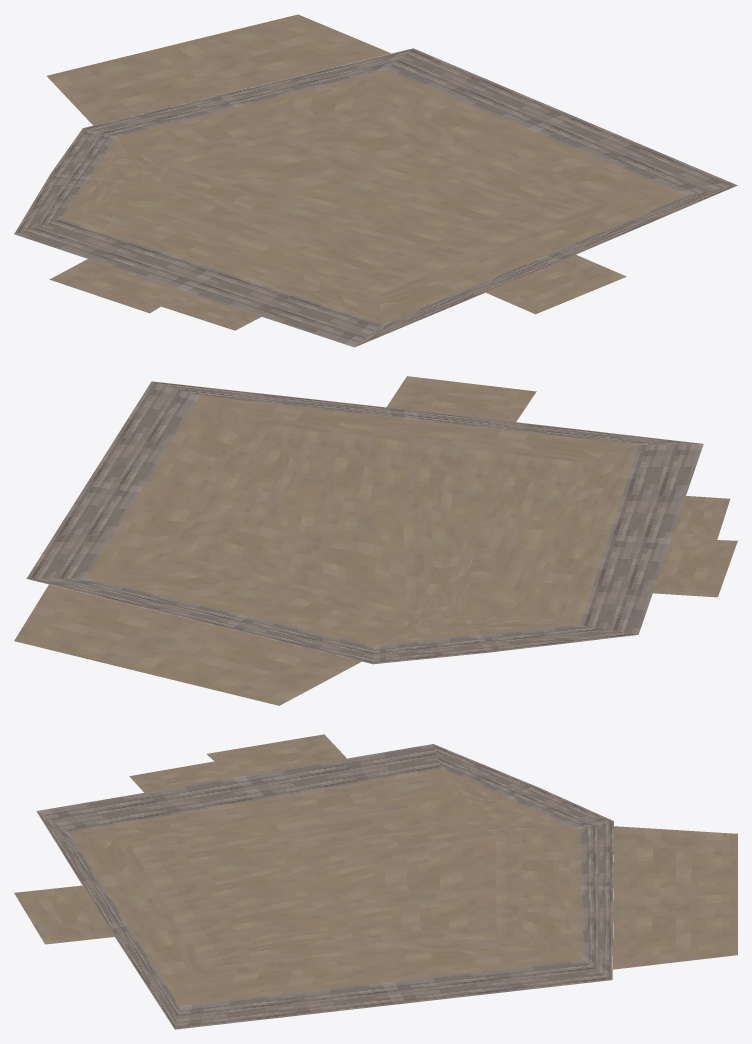
Rendered from fort_charles_footprint.fbx.
3 renders of one model, top to bottom at view 1: azimuth 30°, elevation 25°; view 2: azimuth 150°, elevation 25°; view 3: azimuth 270°, elevation 25°, orthographic. The views are drawn at different scales.
Parts seen in each view (by area): view 1: footprint; view 2: footprint; view 3: footprint.
Boxes of the visible parts, x1,y1,x2,y2 form: footprint: (14,14,737,347); footprint: (14,376,737,705); footprint: (14,734,737,1029).
Bounding box in the file's own units: 44173 × 0.00746 × 45769.
Materials: 2 (2 with a texture image).
